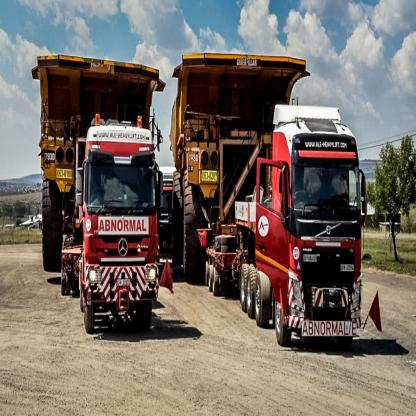dump_truck: (254, 94, 403, 367), (70, 102, 168, 339)
